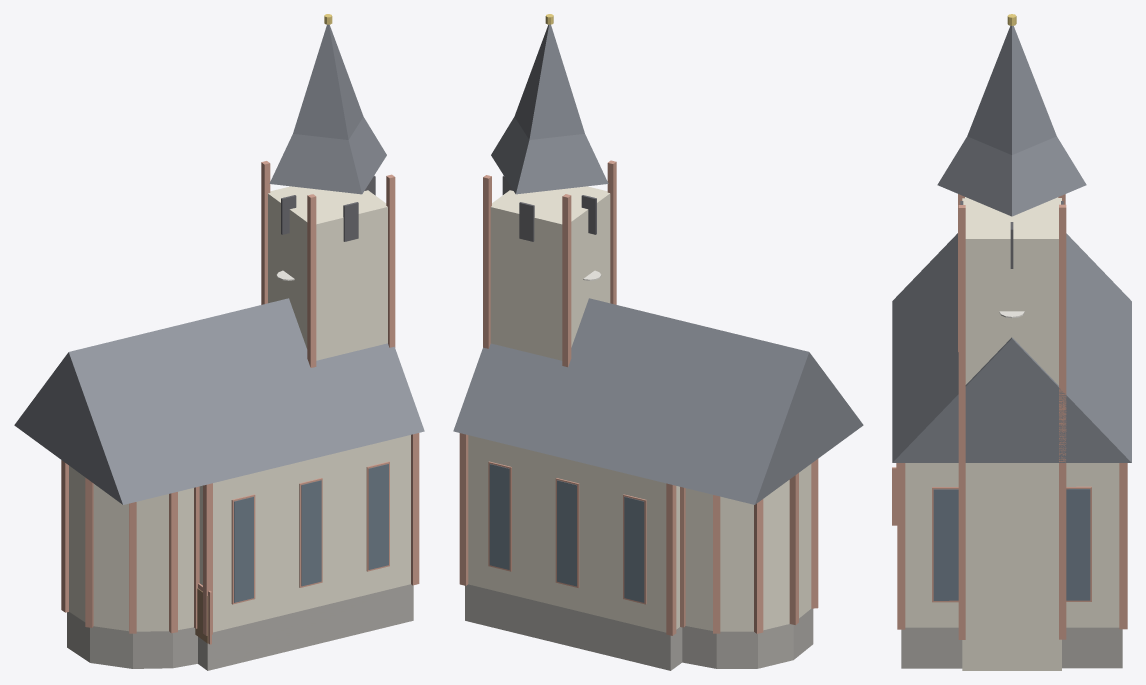
The model's file is church-evangelische-kirche-sitzenkirch.glb.
3 renders of one model, left to right at view 1: azimuth 30°, elevation 25°; view 2: azimuth 150°, elevation 25°; view 3: azimuth 270°, elevation 25°, orthographic. The views are drawn at different scales.
Visible parts, largest first — view 1: building; view 2: building; view 3: building.
Part boxes in pixels (x1=…): building: x1=14, y1=14, x2=424, y2=670; building: x1=453, y1=14, x2=863, y2=670; building: x1=892, y1=14, x2=1131, y2=670.
Bounding box in the file's own units: 22.39 × 38.75 × 13.27.
